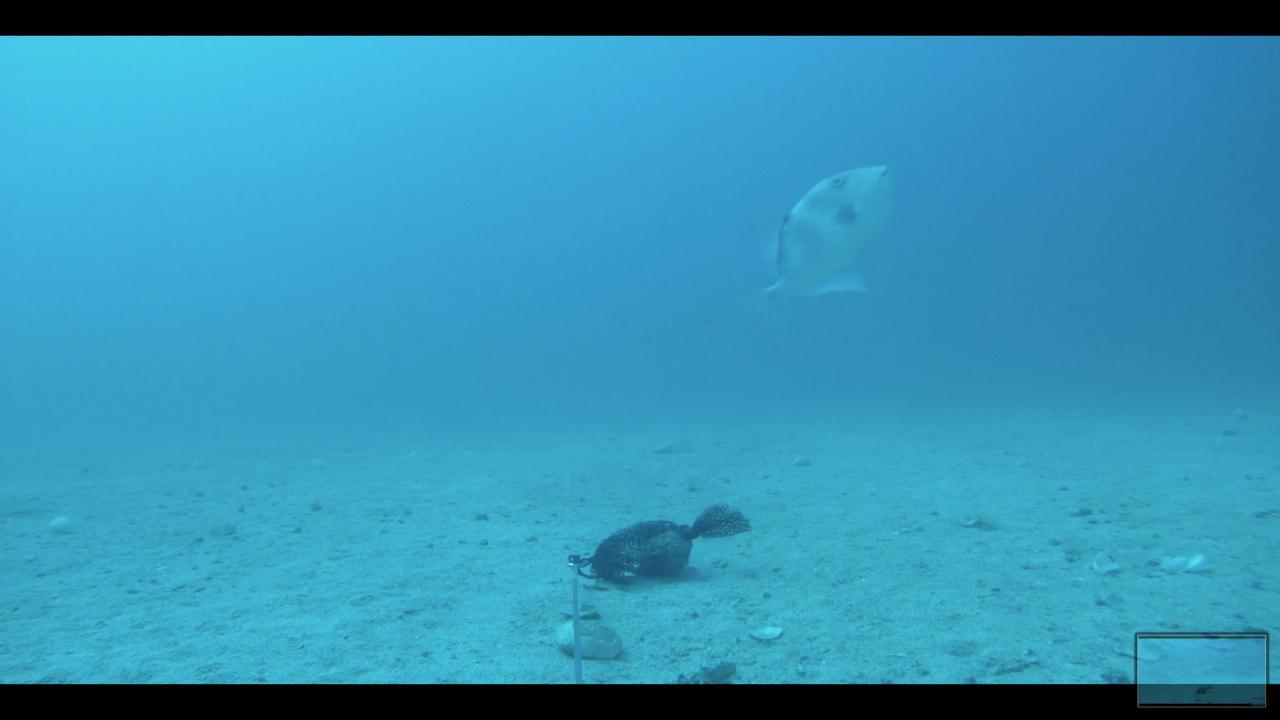balistes: (745, 163, 898, 318)
